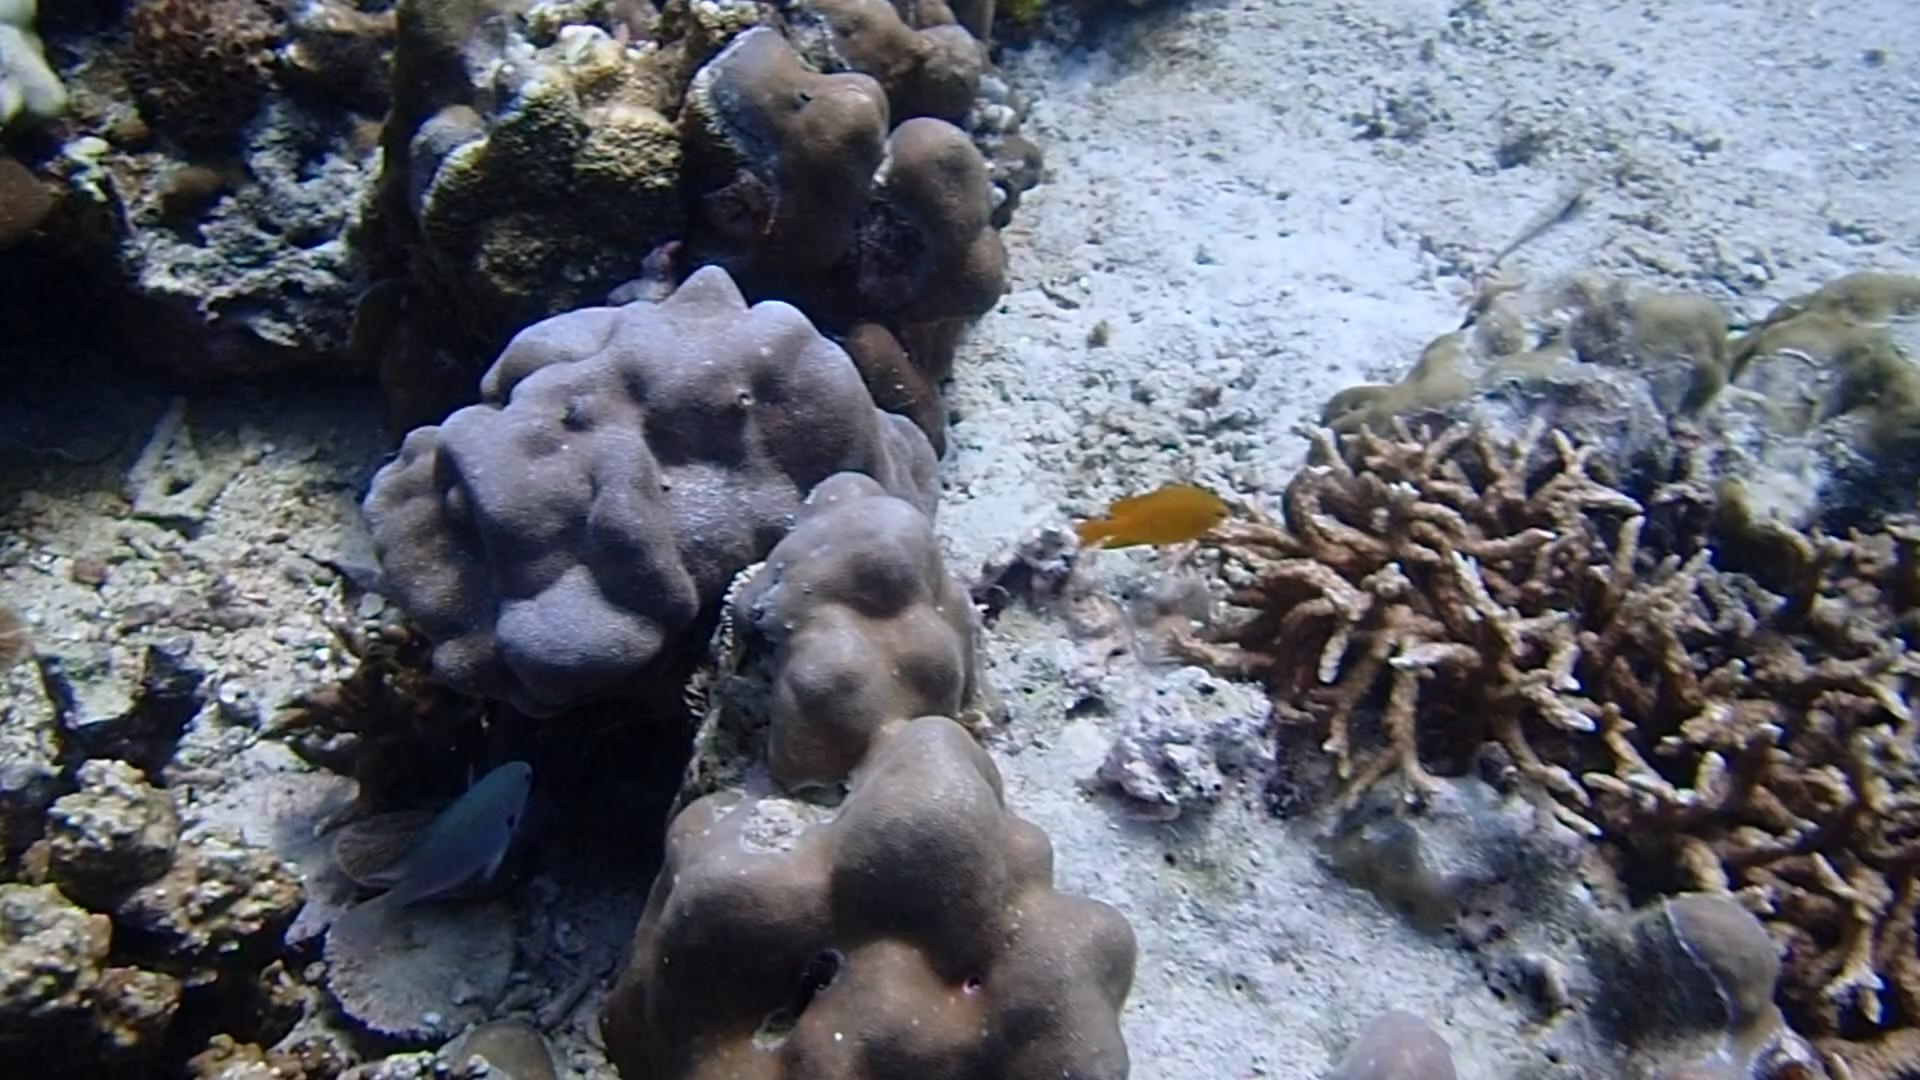Blue Fish Two: (327, 753, 553, 956)
Yellow Fish: (1064, 464, 1236, 568)
